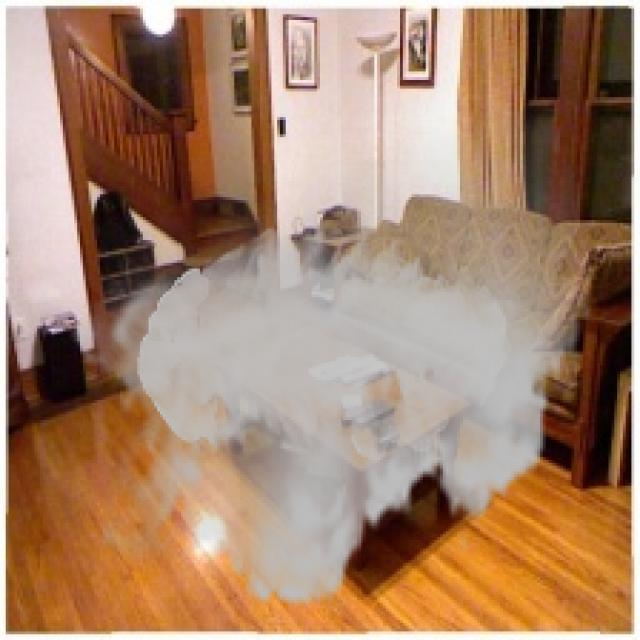Smoke: (69, 69, 592, 628)
